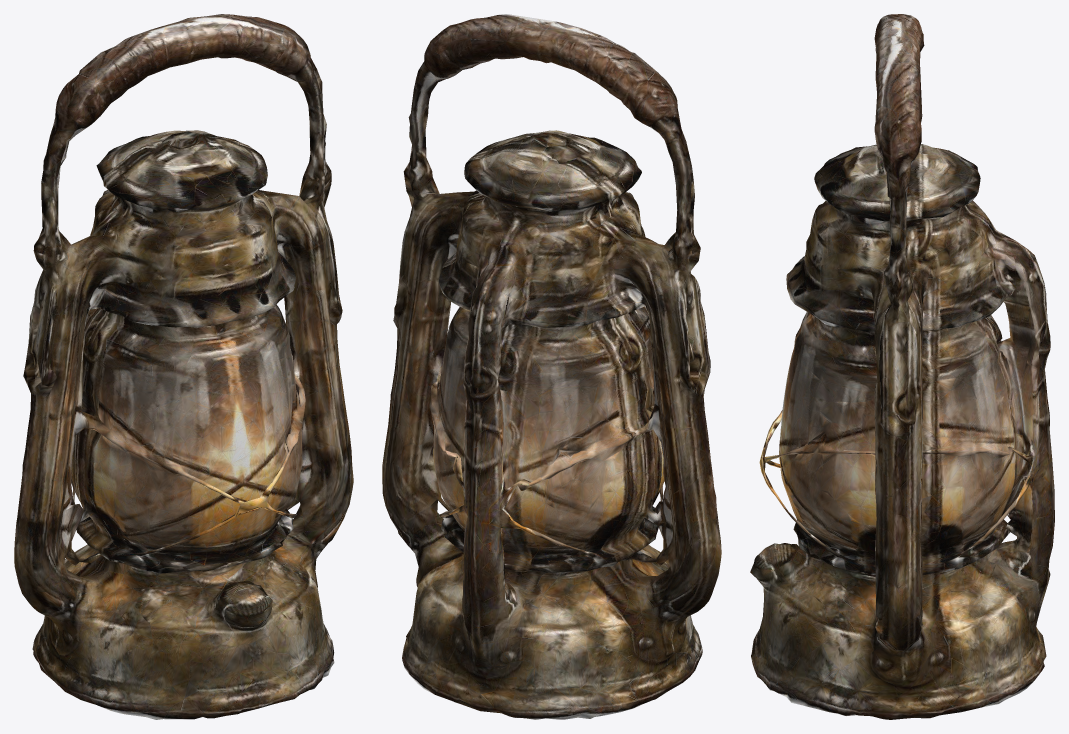
File: lantern.glb
The picture shows the model from 3 angles, left to right: view 1: azimuth 30°, elevation 25°; view 2: azimuth 150°, elevation 25°; view 3: azimuth 270°, elevation 25°; orthographic projection.
Parts seen in each view (by area): view 1: geometry_0; view 2: geometry_0; view 3: geometry_0.
Part boxes in pixels (bbox=[...]): geometry_0: bbox=[14, 14, 353, 719]; geometry_0: bbox=[382, 14, 721, 719]; geometry_0: bbox=[750, 14, 1054, 719].
Size of the model in its own units: 1.09 by 1.97 by 0.8707.
1 material, 1 textured.
